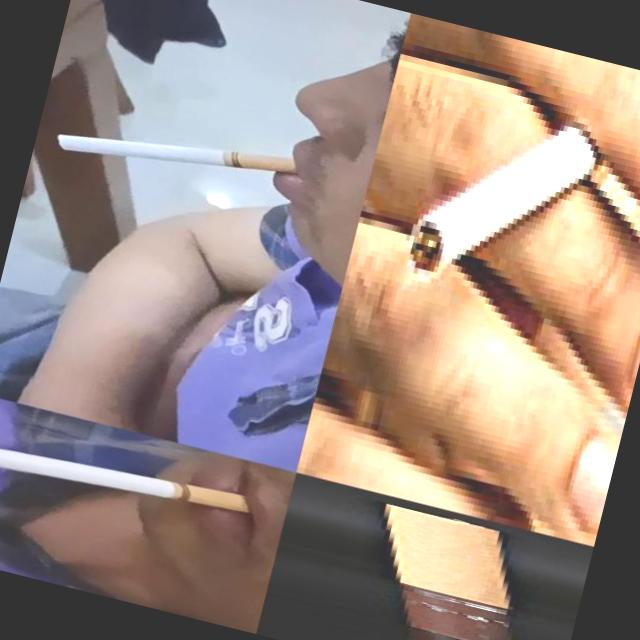smoke: (398, 65, 632, 323), (352, 503, 556, 640), (48, 102, 300, 205), (0, 427, 249, 528)
